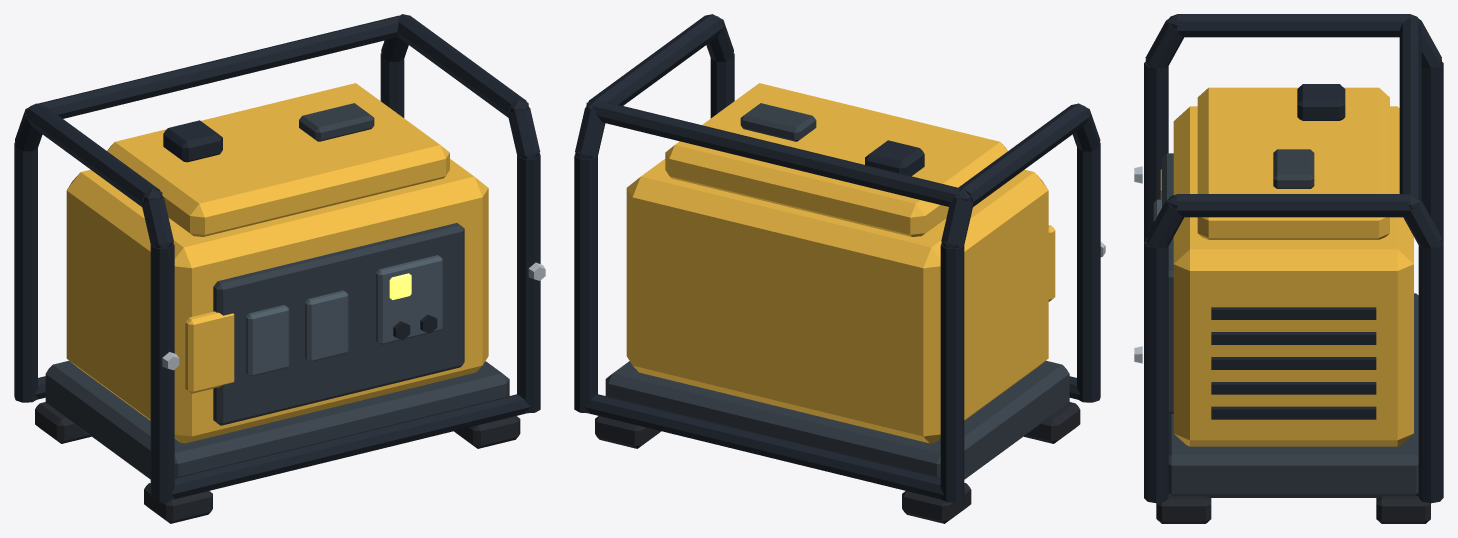
File: Prop_Generator.fbx
3 views of the same model, side by side, from view 1: azimuth 30°, elevation 25°; view 2: azimuth 150°, elevation 25°; view 3: azimuth 270°, elevation 25° (orthographic).
Parts seen in each view (by area): view 1: Amber_Metal, Slate, FrameDark, Frame, Rubber; view 2: Amber_Metal, Slate, FrameDark, Rubber; view 3: Amber_Metal, Slate, FrameDark, Rubber.
Part boxes in pixels (box(x1,y1,x2,y2)): Amber_Metal: box(66, 83, 488, 443); Slate: box(14, 14, 540, 502); FrameDark: box(45, 103, 509, 479); Frame: box(246, 255, 442, 376); Rubber: box(35, 402, 520, 523); Amber_Metal: box(626, 83, 1055, 443); Slate: box(574, 14, 1100, 502); FrameDark: box(605, 103, 1069, 479); Rubber: box(595, 402, 1080, 523); Amber_Metal: box(1160, 87, 1413, 446); Slate: box(1144, 14, 1443, 503); FrameDark: box(1162, 149, 1418, 497); Rubber: box(1156, 495, 1430, 523).
Size of the model in its own units: 3.28 by 2.69 by 2.25.
